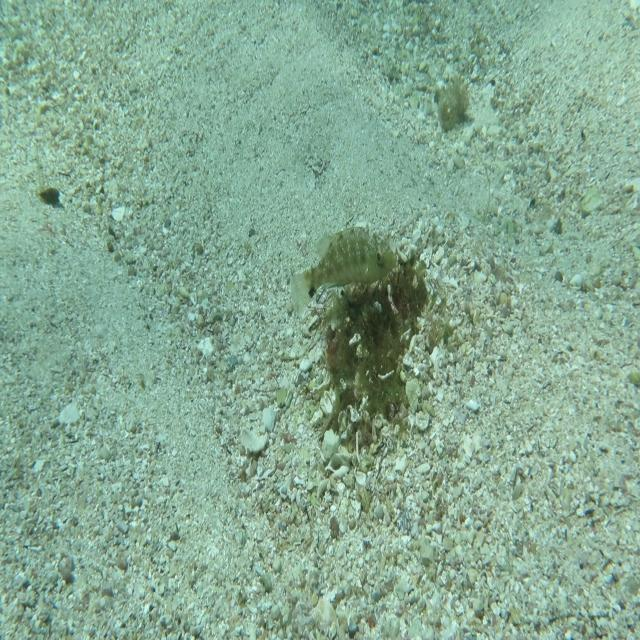FAN: (289, 219, 410, 321)
core_nest: (382, 264, 426, 306)
nest: (315, 227, 445, 435)
vegetation: (436, 69, 468, 132), (40, 179, 62, 211)
